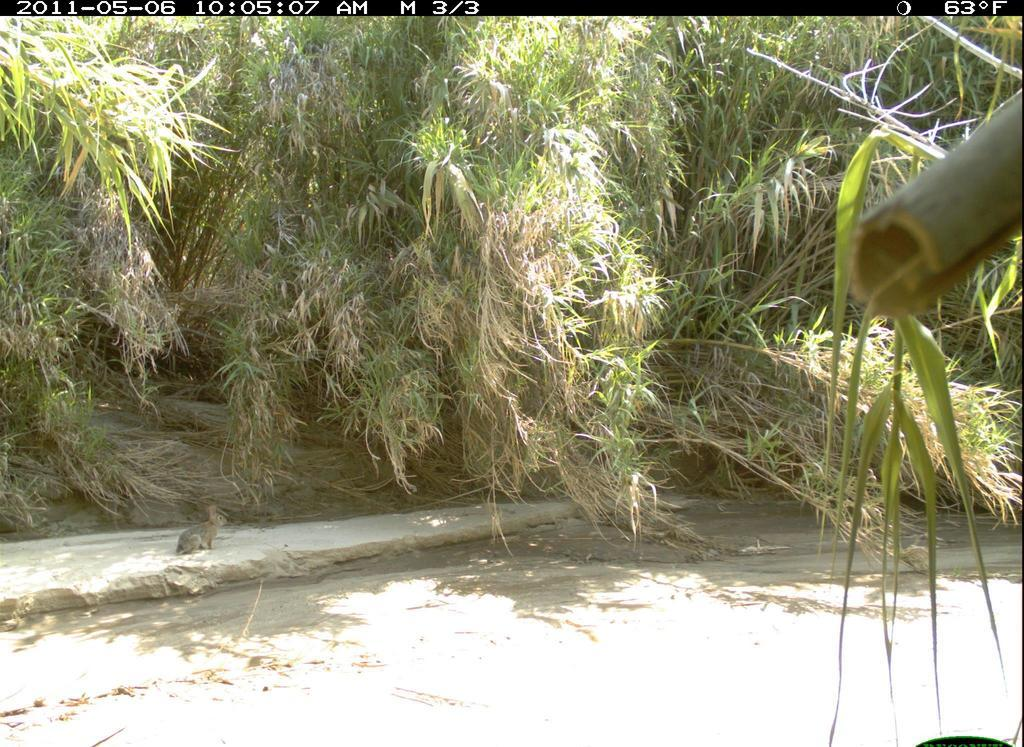rabbit: (173, 497, 241, 561)
